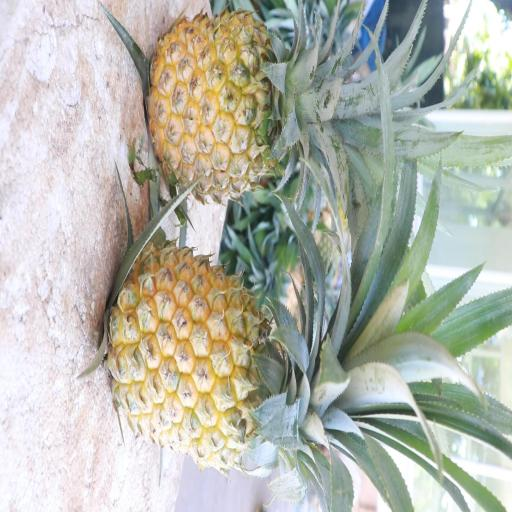Pineapple - v8 v1: (104, 240, 365, 477), (143, 4, 349, 210)
